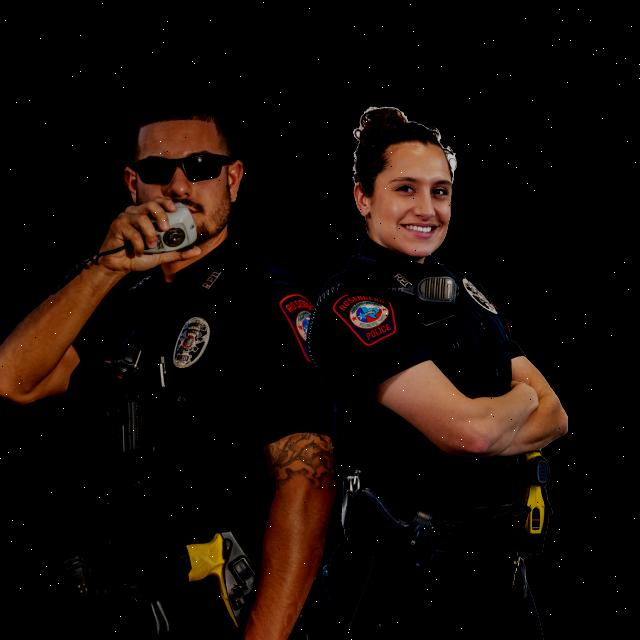police: (0, 95, 334, 640), (321, 101, 576, 640)
